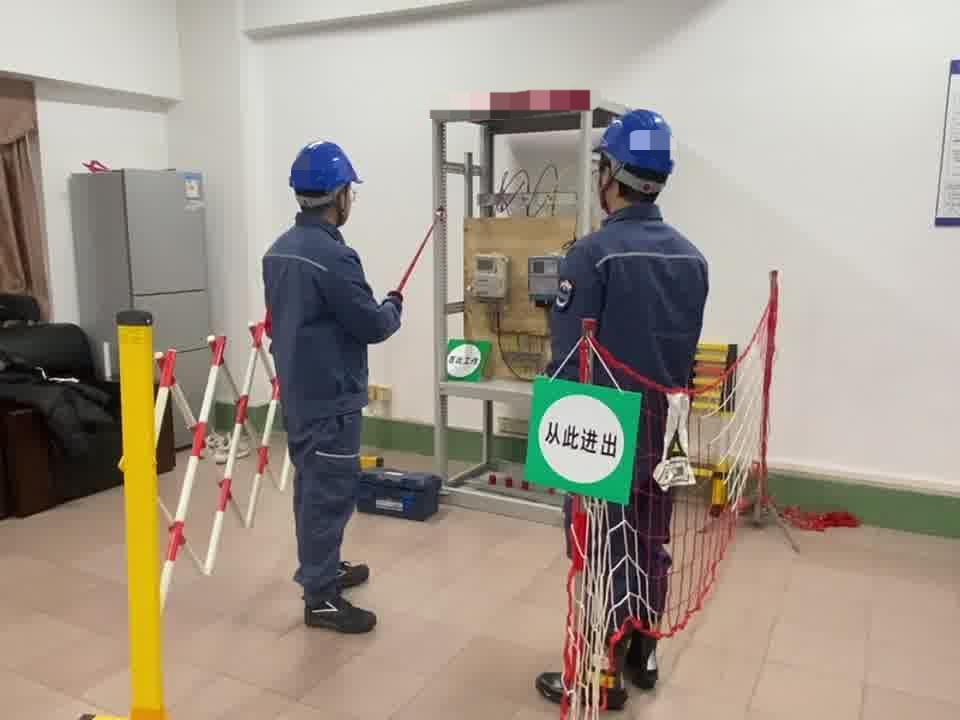halt: (586, 110, 680, 216), (291, 142, 365, 227)
inear: (331, 188, 354, 222)
